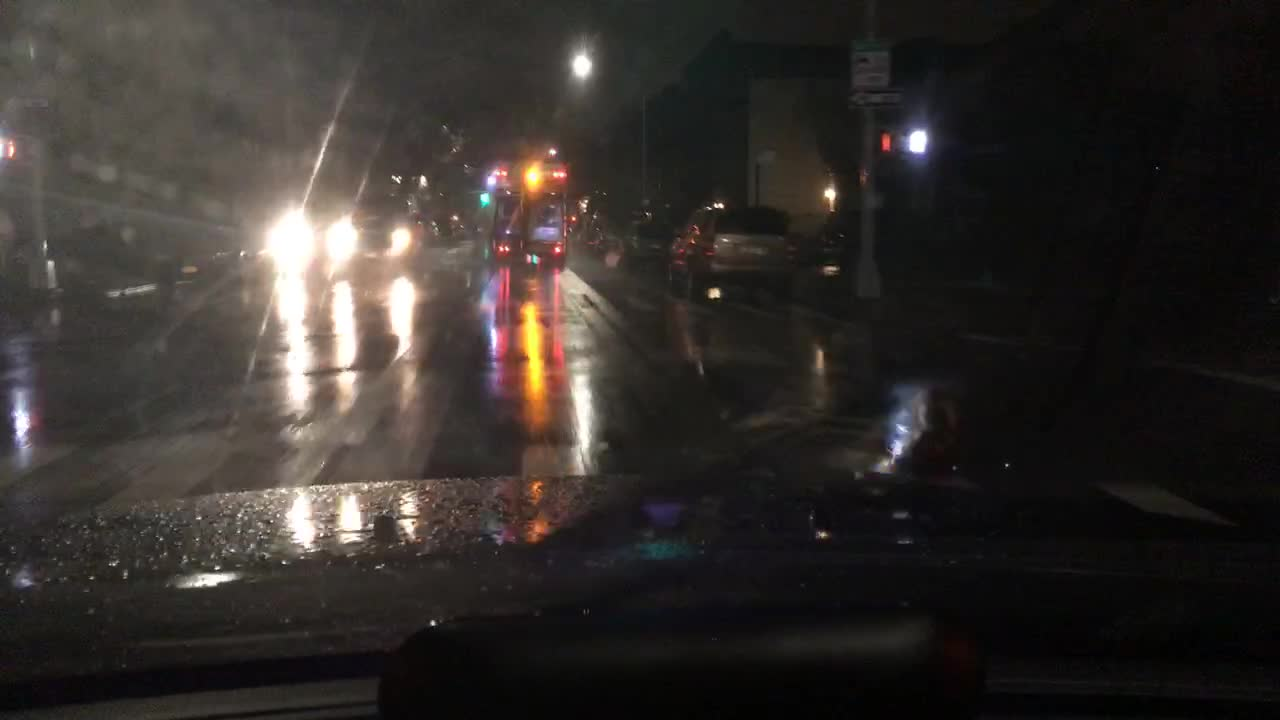car: (666, 204, 798, 304), (260, 195, 361, 270), (360, 190, 424, 253), (623, 217, 681, 259), (587, 207, 626, 247), (571, 208, 602, 247), (411, 213, 444, 247), (444, 210, 467, 245)
traffic light: (875, 128, 900, 158), (477, 187, 490, 210)
traffic sign: (847, 32, 892, 87), (842, 84, 913, 111)
truck: (489, 155, 568, 262)
